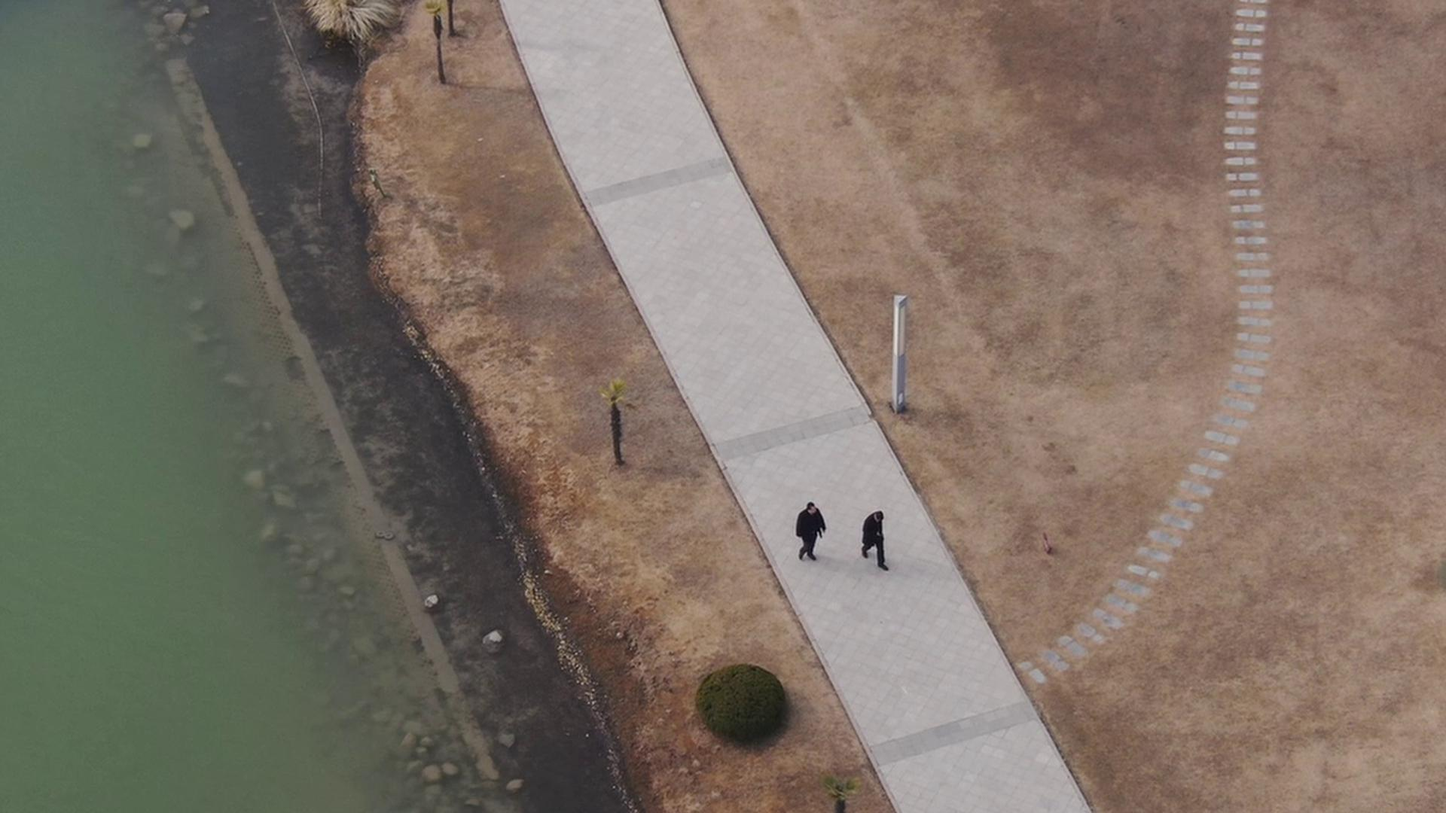human: (781, 497, 824, 574), (858, 508, 893, 579)
